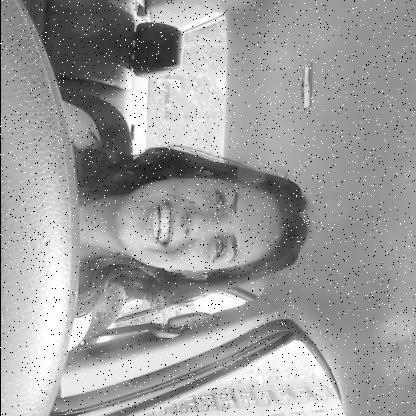no_seatbelt: (61, 141, 330, 339)
